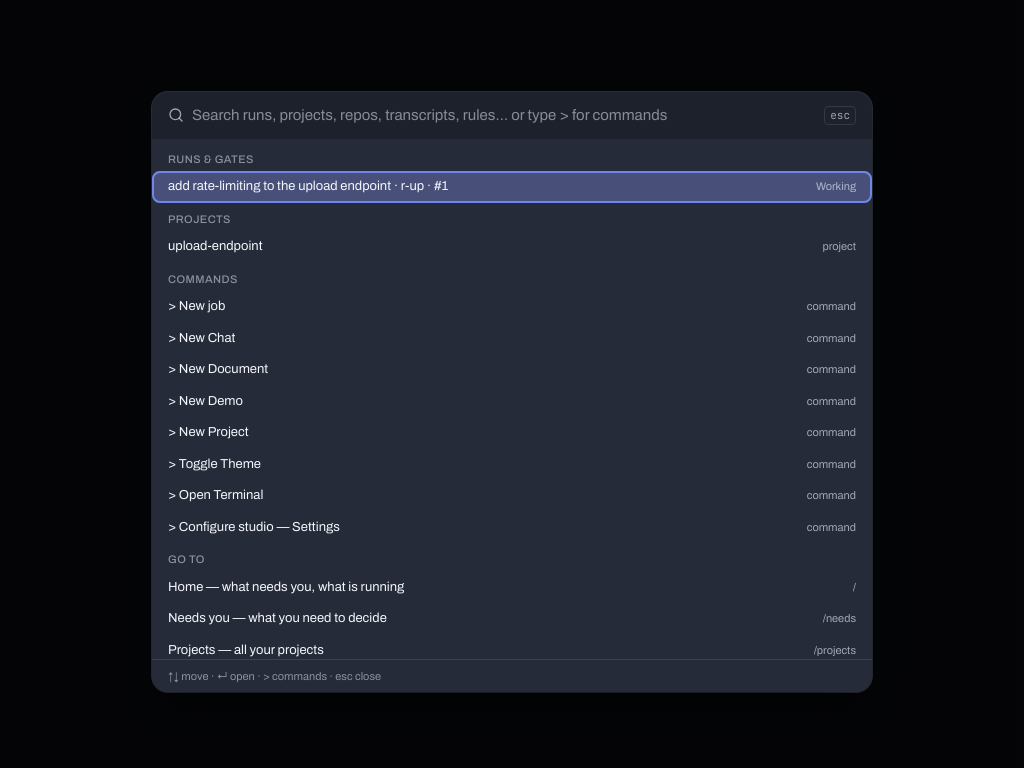
Test: asking the daemon › All lists each type’s hits under its heading, the match marked, with a snippet, and See all for the rest
The width and height of the screenshot is (1024, 768).
Replace the text in the dropdown with test id "palette-input" with "upload" at (504, 115), box [192,104,816,127]
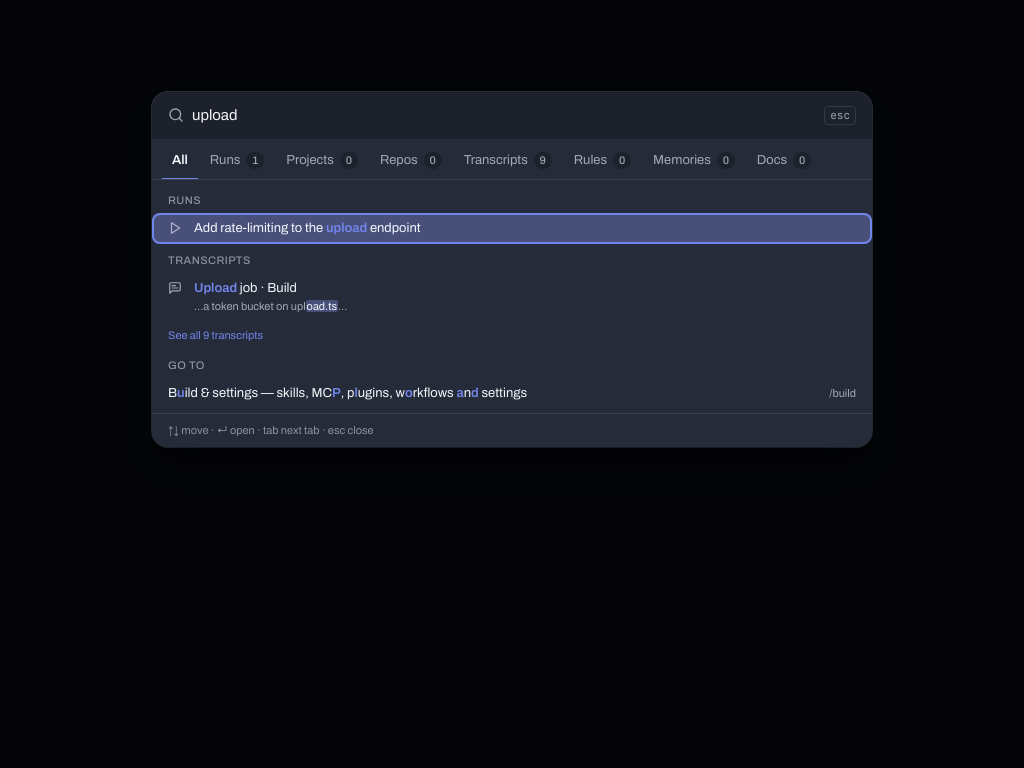
Result: the element with test id "search-snippet" reads "…a token bucket on upload.ts…" at [194,300,347,312]
Result: the option with test id "palette-row" reads "See all 9 transcripts" at [152,321,872,349]
Result: the tab with test id "search-tab" reads "Runs 1" at [200,145,274,180]
